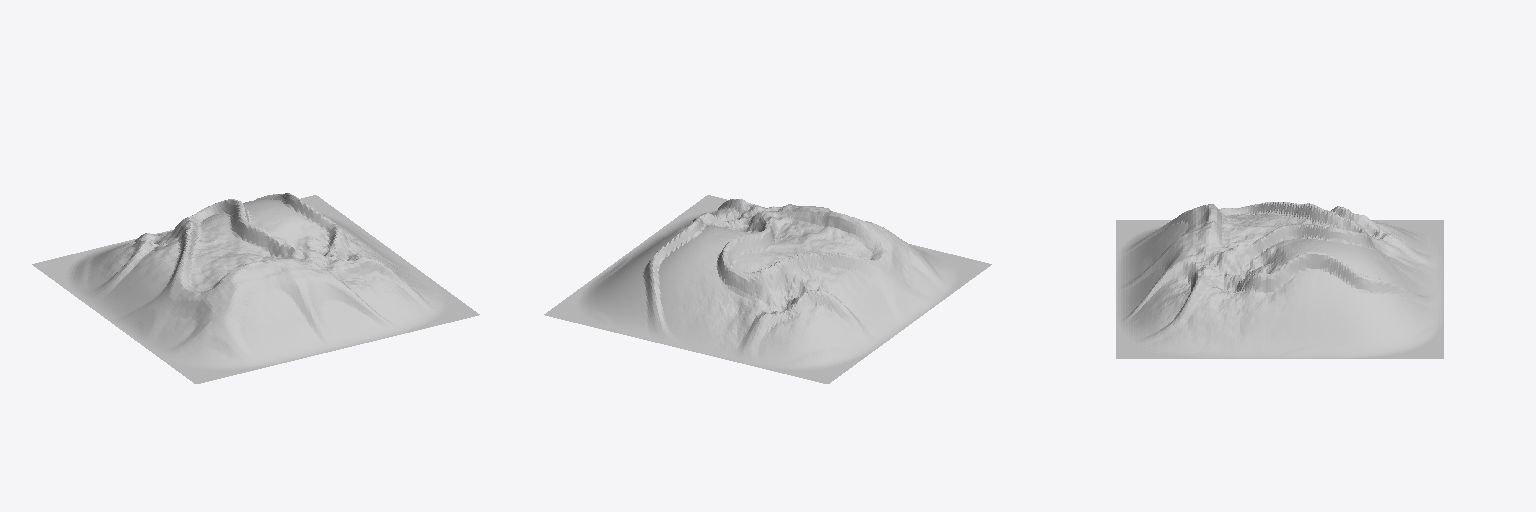
File: landscapetextured-col.obj
3 renders of one model, left to right at view 1: azimuth 30°, elevation 25°; view 2: azimuth 150°, elevation 25°; view 3: azimuth 270°, elevation 25°, orthographic.
Parts seen in each view (by area): view 1: Landscape.001; view 2: Landscape.001; view 3: Landscape.001.
Boxes of the visible parts, <box> form: Landscape.001: <box>32,193,479,383</box>; Landscape.001: <box>544,195,991,383</box>; Landscape.001: <box>1116,202,1443,358</box>.
Bounding box in the file's own units: 2 × 0.4524 × 2.